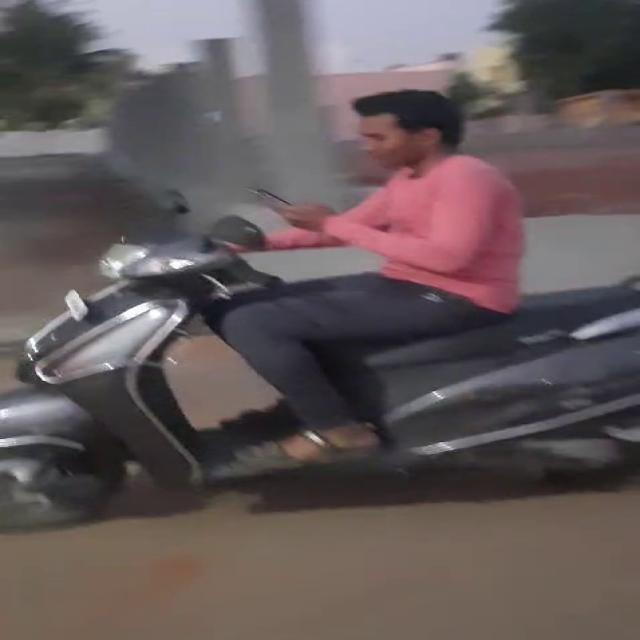USING_MOBILE: (254, 90, 473, 228)
